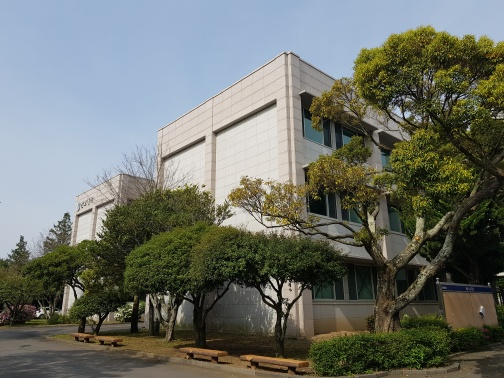College of Nursing: (156, 63, 446, 329), (59, 163, 131, 320)
